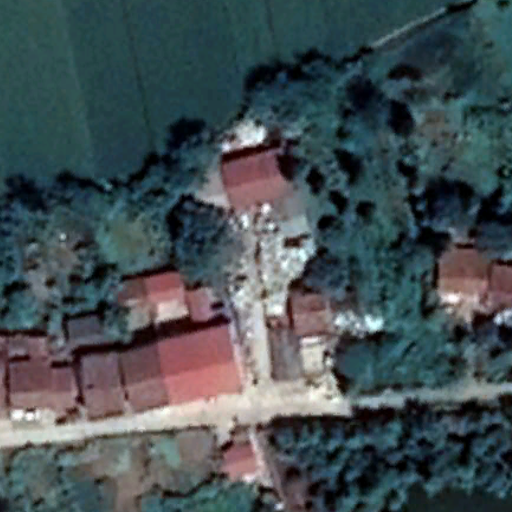msw: (225, 207, 315, 327)
